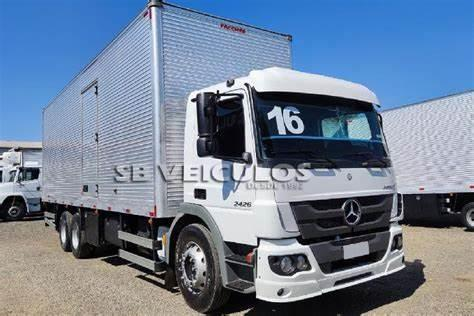placa de veiculo: (337, 237, 378, 264)
